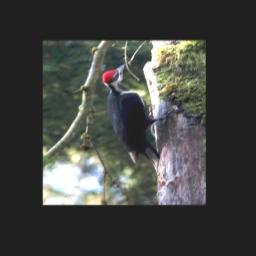Woodpecker: (101, 63, 176, 172)
